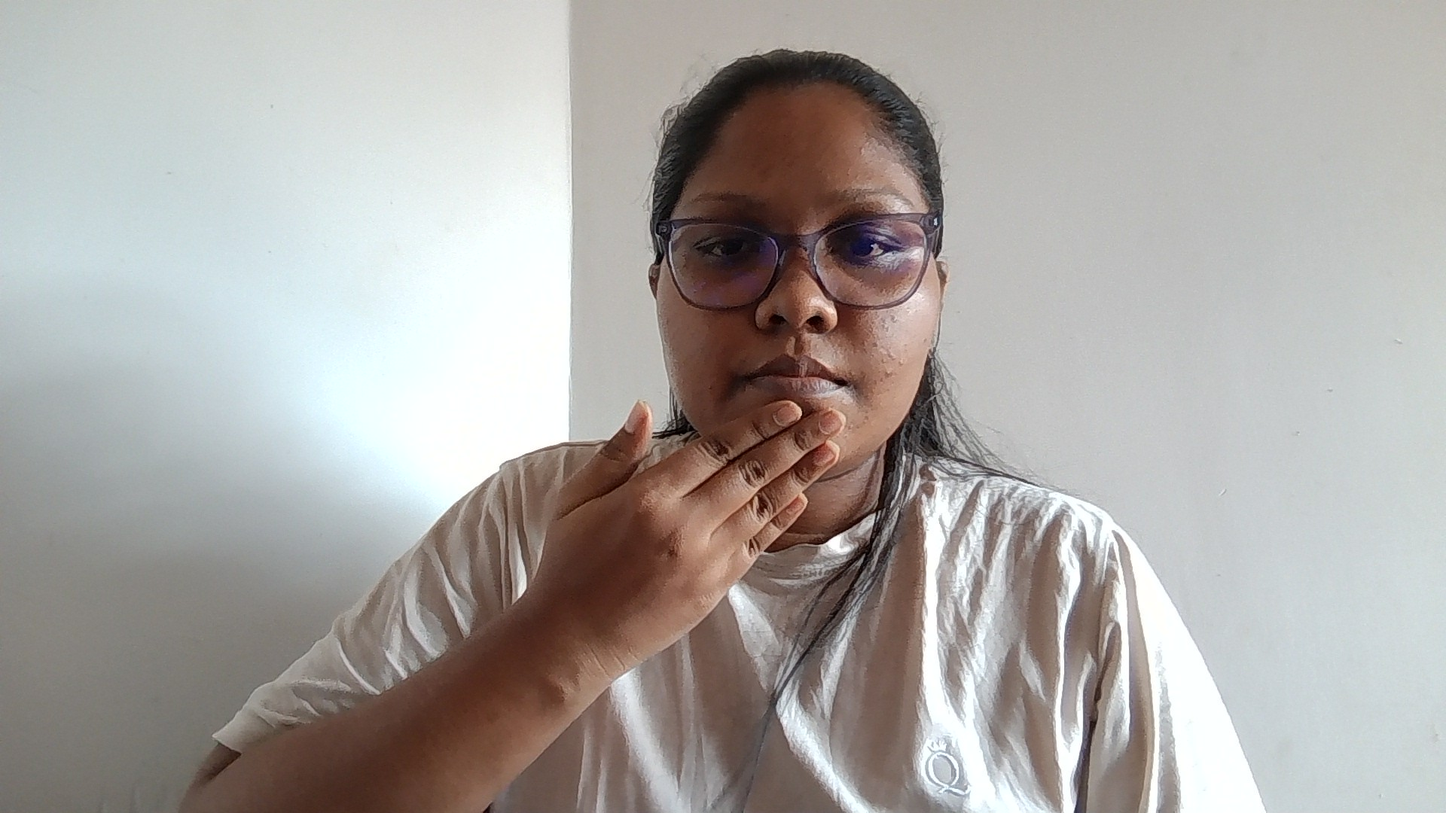Thank You: (409, 368, 973, 709)
